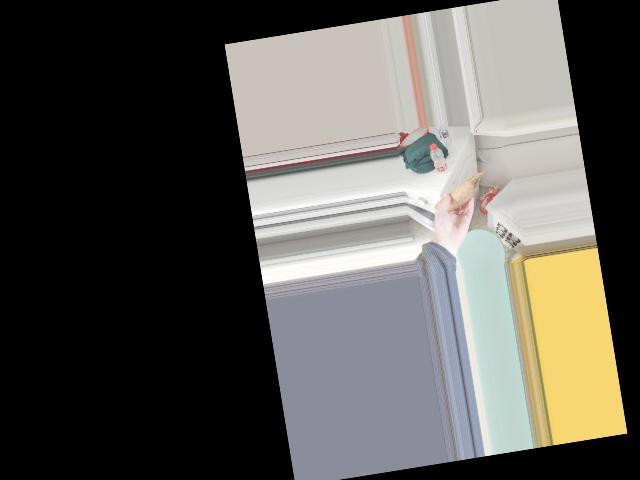sweet_potato: (437, 182, 474, 215)
